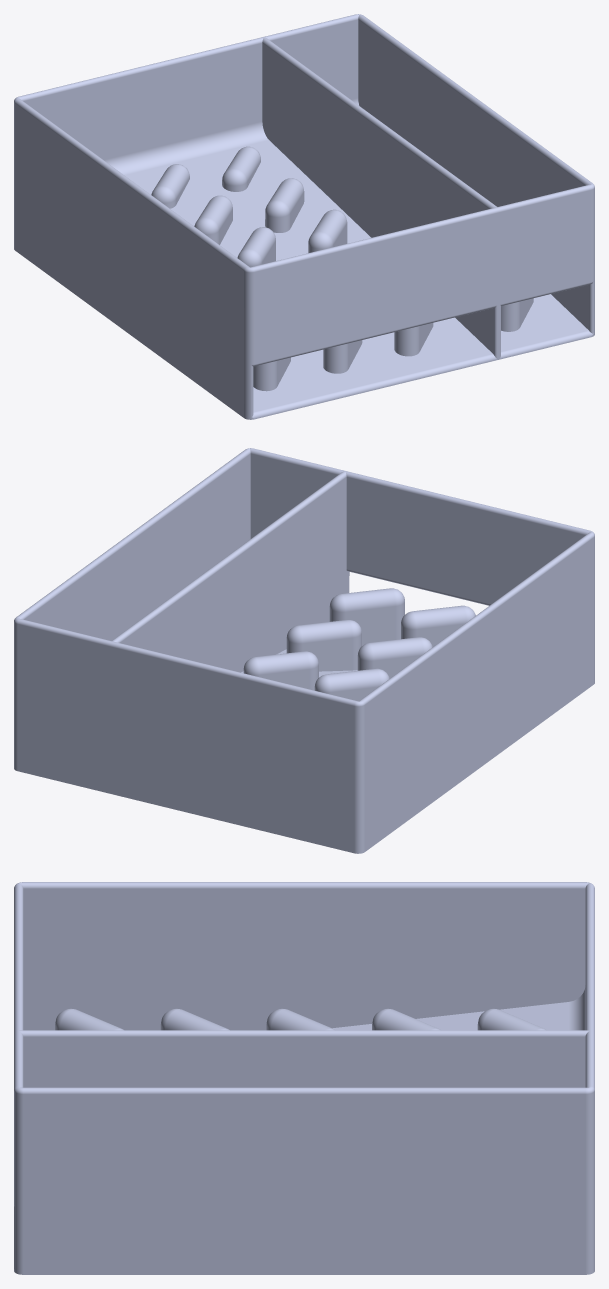
The model's file is sponge-holder.glb.
3 views of the same model, one above another, from view 1: azimuth 30°, elevation 25°; view 2: azimuth 150°, elevation 25°; view 3: azimuth 270°, elevation 25° (orthographic). The views are drawn at different scales.
Visible parts, largest first — view 1: sponge-holder; view 2: sponge-holder; view 3: sponge-holder.
Part boxes in pixels (bbox=[...]): sponge-holder: bbox=[14, 14, 594, 419]; sponge-holder: bbox=[14, 448, 594, 853]; sponge-holder: bbox=[14, 882, 594, 1274].
Bounding box in the file's own units: 0.0785 × 0.0323 × 0.092.
